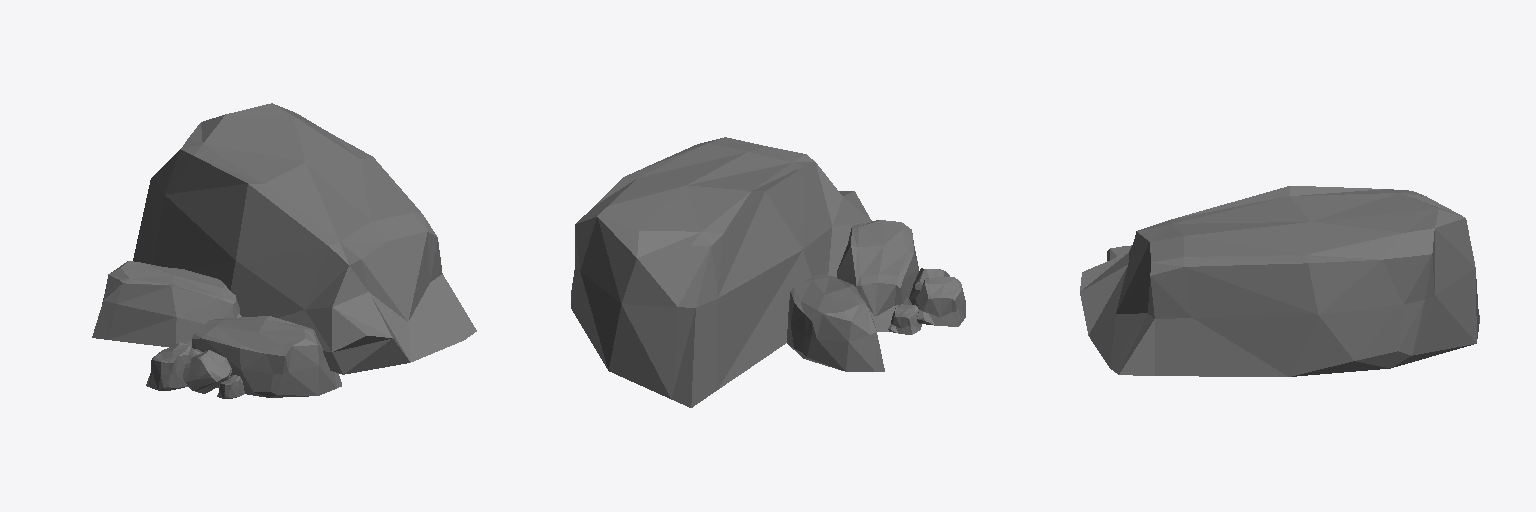
The model's file is rock_Group_1.obj.
The picture shows the model from 3 angles: view 1: azimuth 30°, elevation 25°; view 2: azimuth 150°, elevation 25°; view 3: azimuth 270°, elevation 25°; orthographic projection.
Visible parts, largest first — view 1: rockGroup1:pCube9; view 2: rockGroup1:pCube9; view 3: rockGroup1:pCube9.
Part boxes in pixels (left/top/right/bottom): rockGroup1:pCube9: left=92, top=103, right=476, bottom=398; rockGroup1:pCube9: left=571, top=137, right=965, bottom=407; rockGroup1:pCube9: left=1080, top=186, right=1479, bottom=376.
Size of the model in its own units: 208 by 96.61 by 239.